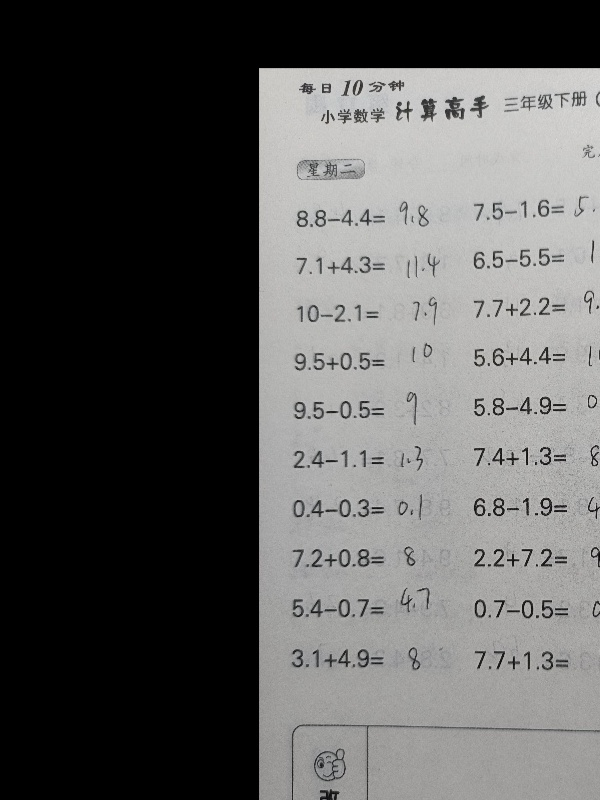equation: (283, 641, 463, 676), (284, 591, 464, 625), (285, 541, 465, 575), (284, 491, 464, 525), (286, 393, 466, 427), (286, 345, 466, 379), (285, 443, 465, 476), (289, 297, 469, 330), (288, 202, 468, 235), (466, 184, 600, 228), (288, 249, 468, 281), (467, 643, 600, 678), (464, 439, 600, 473), (464, 241, 600, 275), (465, 490, 600, 524), (465, 389, 600, 423), (465, 339, 600, 373), (465, 290, 600, 324), (466, 592, 600, 626), (466, 541, 600, 575)
